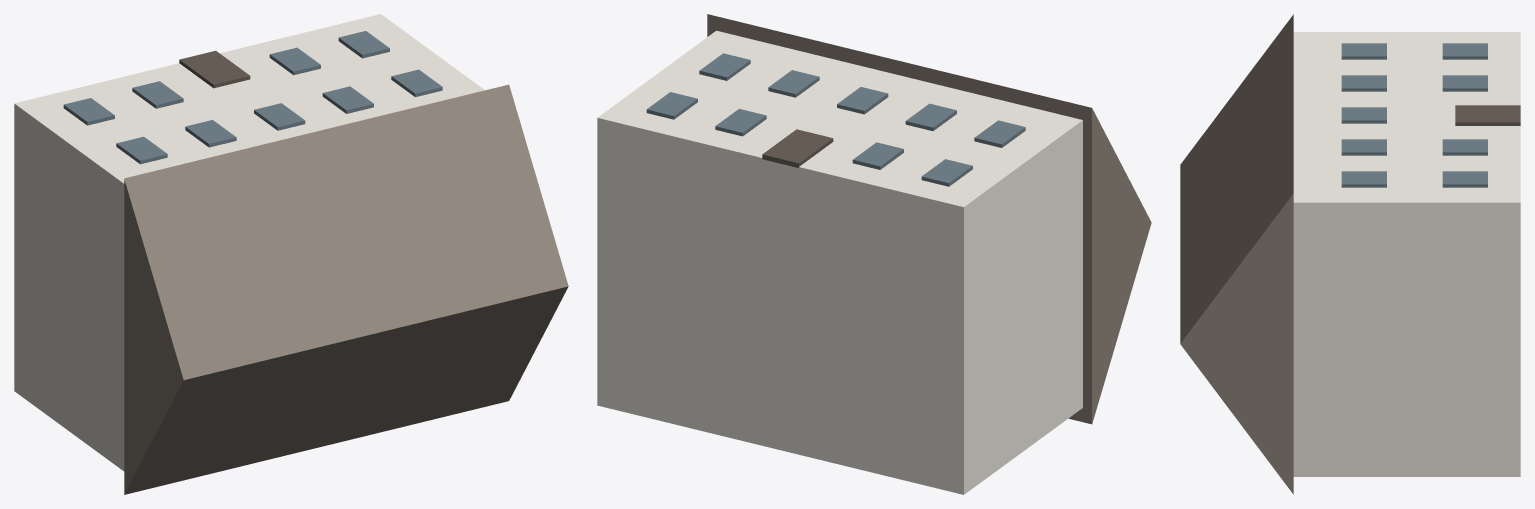
File: r-123-white-alster-villa.glb
3 views of the same model, side by side, from view 1: azimuth 30°, elevation 25°; view 2: azimuth 150°, elevation 25°; view 3: azimuth 270°, elevation 25° (orthographic). The views are drawn at different scales.
Visible parts, largest first — view 1: roof, walls, windows, door; view 2: walls, roof, windows, door; view 3: walls, roof, windows, door.
Boxes of the visible parts, <box> form: roof: <box>124,84,568,494</box>; walls: <box>14,14,484,471</box>; windows: <box>63,31,442,164</box>; door: <box>179,50,250,88</box>; walls: <box>597,30,1082,494</box>; roof: <box>707,14,1151,424</box>; windows: <box>646,53,1025,186</box>; door: <box>762,129,833,167</box>; walls: <box>1293,32,1520,476</box>; roof: <box>1180,14,1293,494</box>; windows: <box>1341,43,1487,187</box>; door: <box>1455,105,1520,125</box>.
Size of the model in its own units: 16800 by 13201 by 13500.
